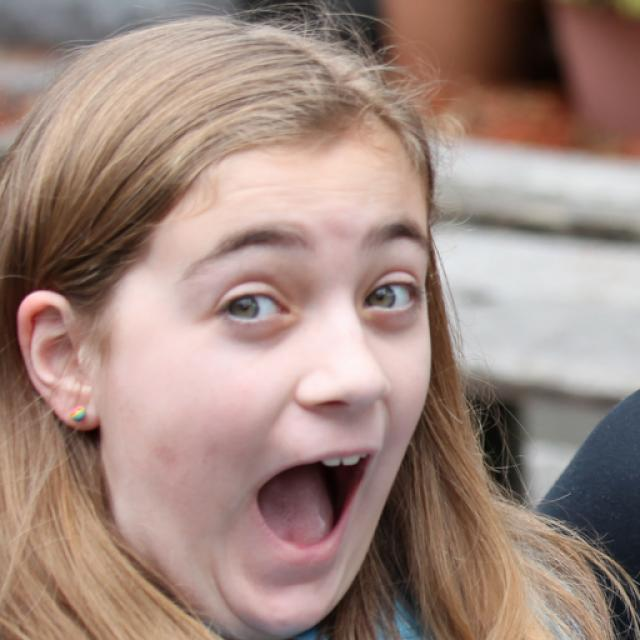surprise: (99, 121, 435, 630)
